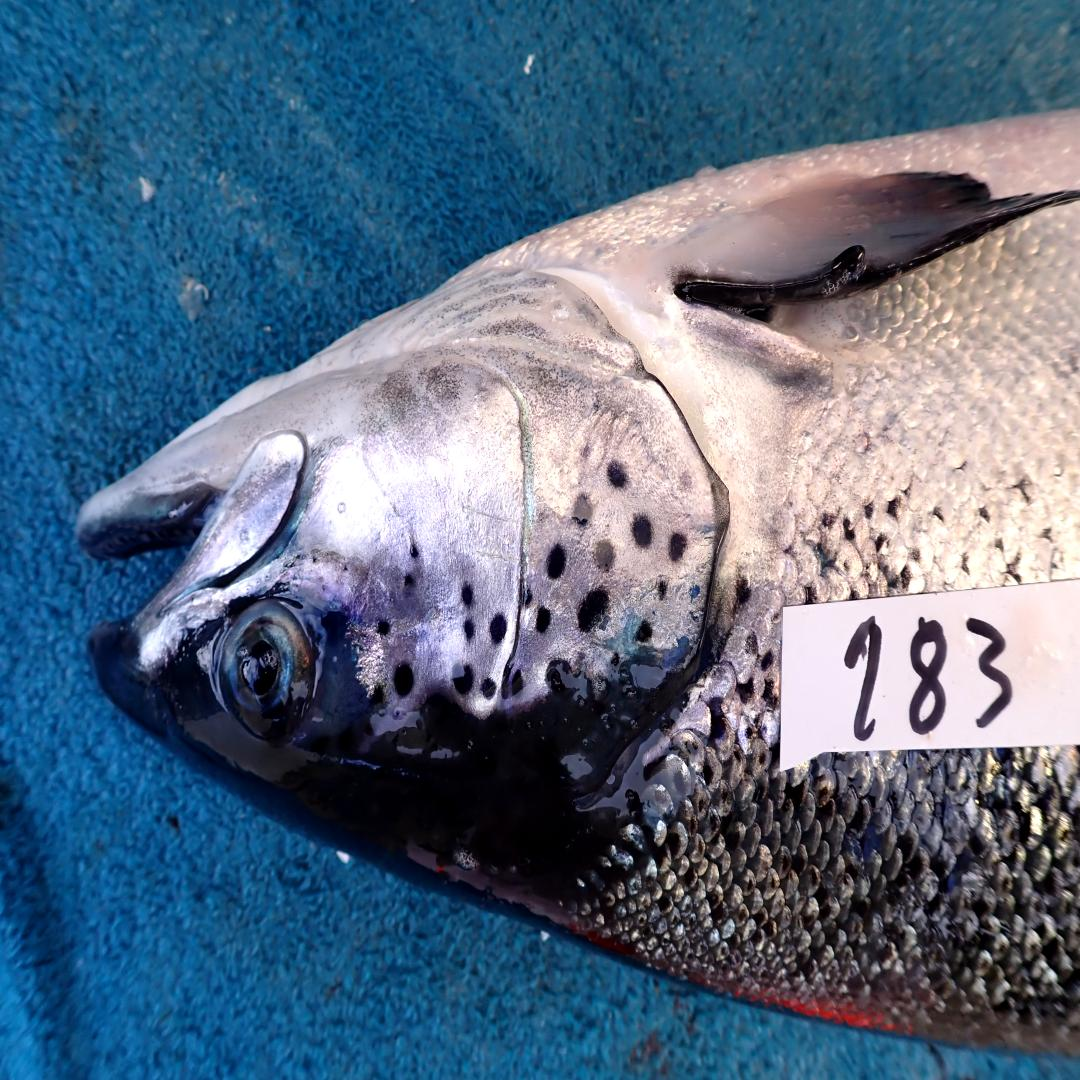roi: (308, 257, 725, 727)
